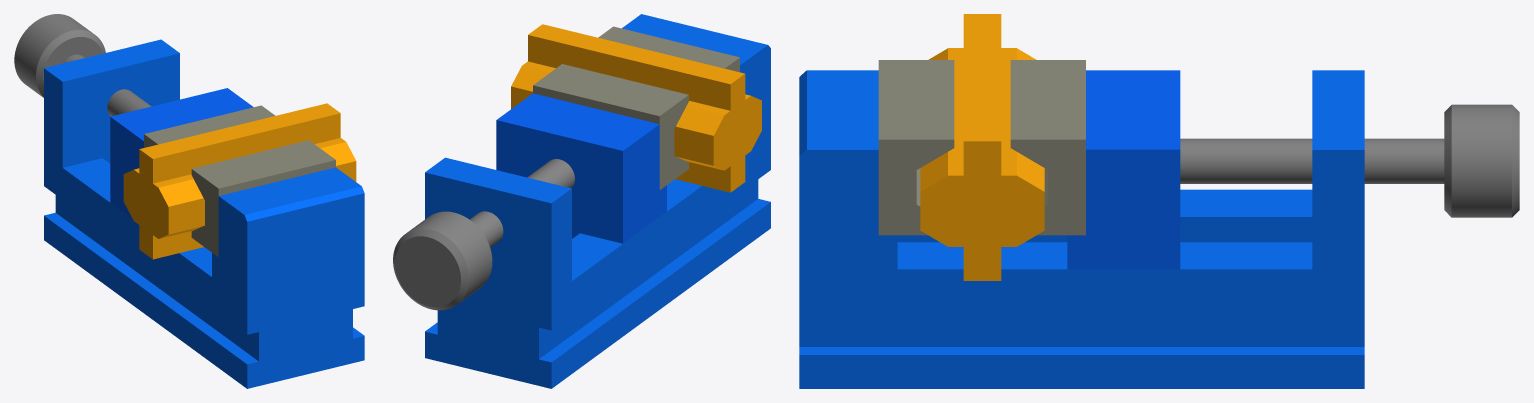
3 views of the same model, side by side, from view 1: azimuth 30°, elevation 25°; view 2: azimuth 150°, elevation 25°; view 3: azimuth 270°, elevation 25° (orthographic). The views are drawn at different scales.
Visible parts, largest first — view 1: 2_sem_peca; view 2: 2_sem_peca; view 3: 2_sem_peca.
Boxes of the visible parts, box(x1,y1,x2,y2) form: 2_sem_peca: box(14, 14, 364, 388); 2_sem_peca: box(393, 14, 770, 388); 2_sem_peca: box(799, 14, 1519, 388).
Bounding box in the file's own units: 1.69 × 1.68 × 4.03.
